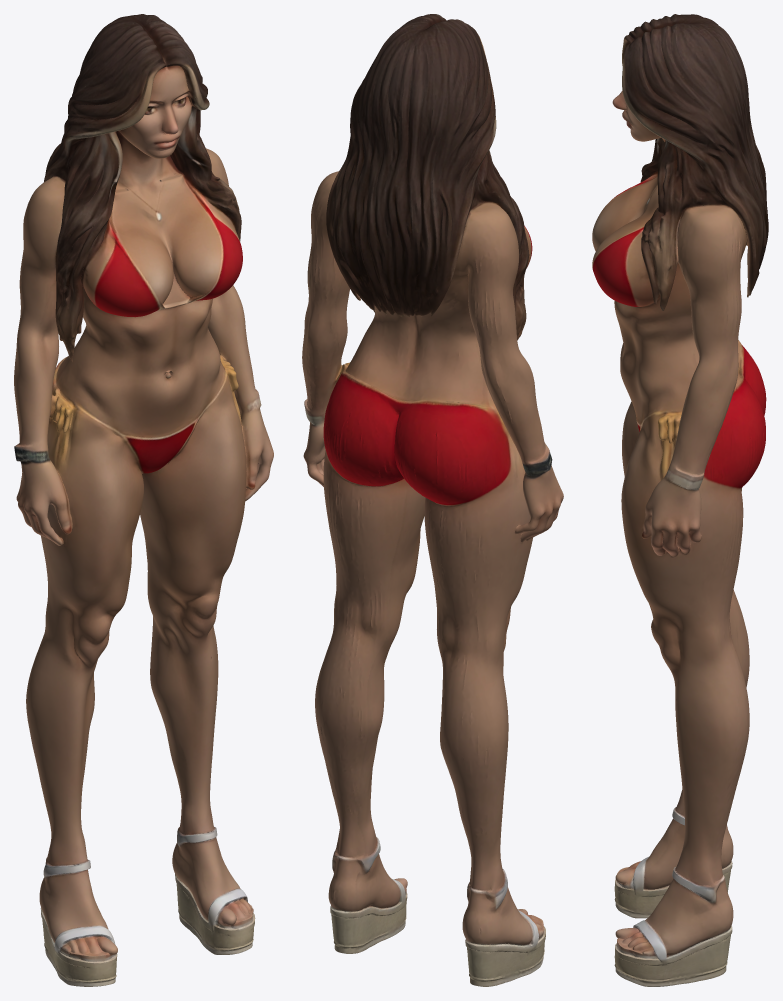
File: pier-reference-woman-v274.glb
The picture shows the model from 3 angles, left to right: view 1: azimuth 30°, elevation 25°; view 2: azimuth 150°, elevation 25°; view 3: azimuth 270°, elevation 25°; orthographic projection.
Visible parts, largest first — view 1: model; view 2: model; view 3: model.
Boxes of the visible parts, x1,y1,x2,y2 form: model: (14, 14, 273, 986); model: (302, 14, 563, 986); model: (592, 14, 768, 986).
Size of the model in its own units: 0.5264 by 1.9 by 0.3293.
1 material, 1 textured.
